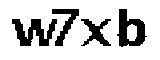7: (53, 8, 80, 49)
b: (115, 5, 147, 49)
w: (10, 17, 58, 52)
x: (81, 15, 112, 49)
